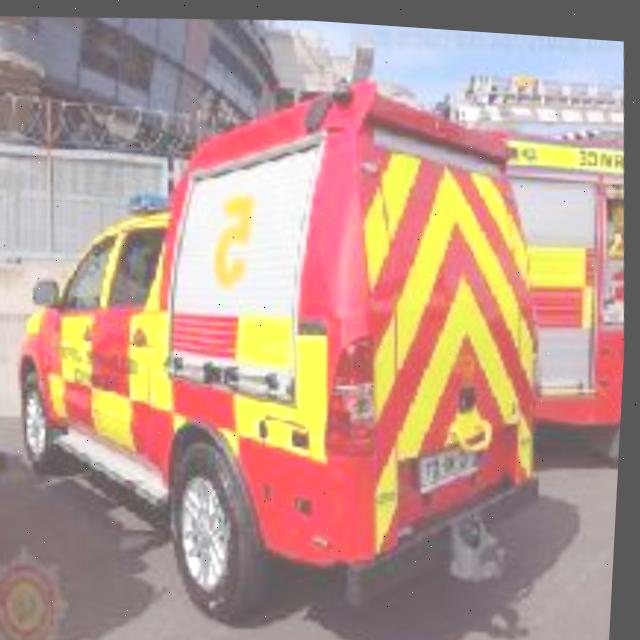emergency: (0, 42, 569, 640), (340, 56, 638, 471)
